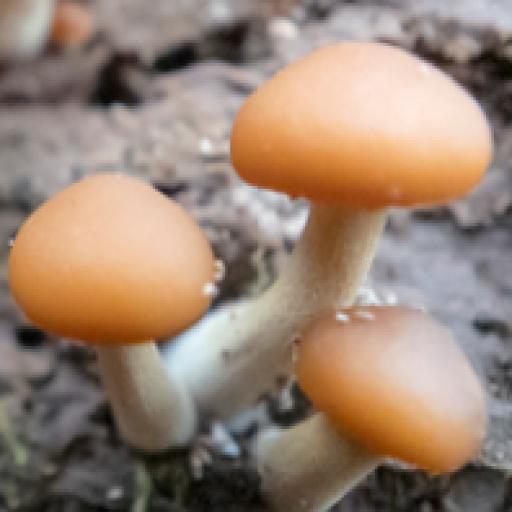Funeral Bell: (222, 29, 504, 270), (6, 168, 225, 454), (274, 294, 491, 506)
